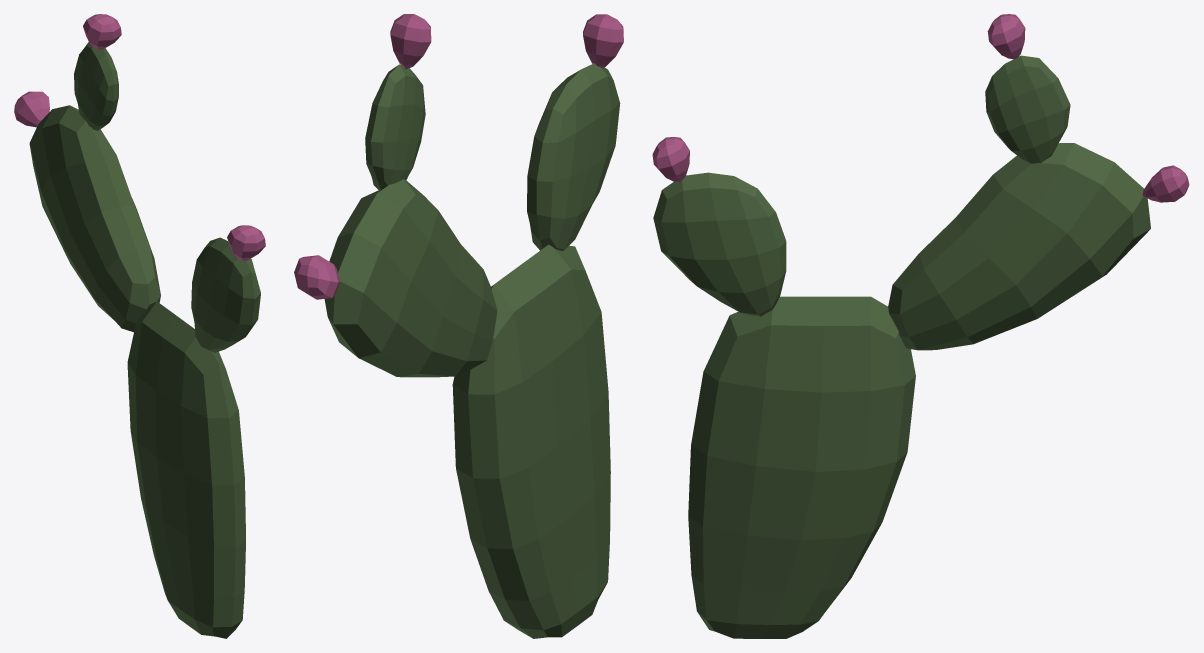
Rendered from CactusFlowers_5.gltf.
3 views of the same model, side by side, from view 1: azimuth 30°, elevation 25°; view 2: azimuth 150°, elevation 25°; view 3: azimuth 270°, elevation 25° (orthographic). The views are drawn at different scales.
Parts seen in each view (by area): view 1: CactusFlowers_5; view 2: CactusFlowers_5; view 3: CactusFlowers_5.
Part boxes in pixels (<box>): CactusFlowers_5: <box>14,14,265,638</box>; CactusFlowers_5: <box>294,14,623,638</box>; CactusFlowers_5: <box>652,14,1189,638</box>.
Bounding box in the file's own units: 0.1117 × 0.9382 × 0.734.
